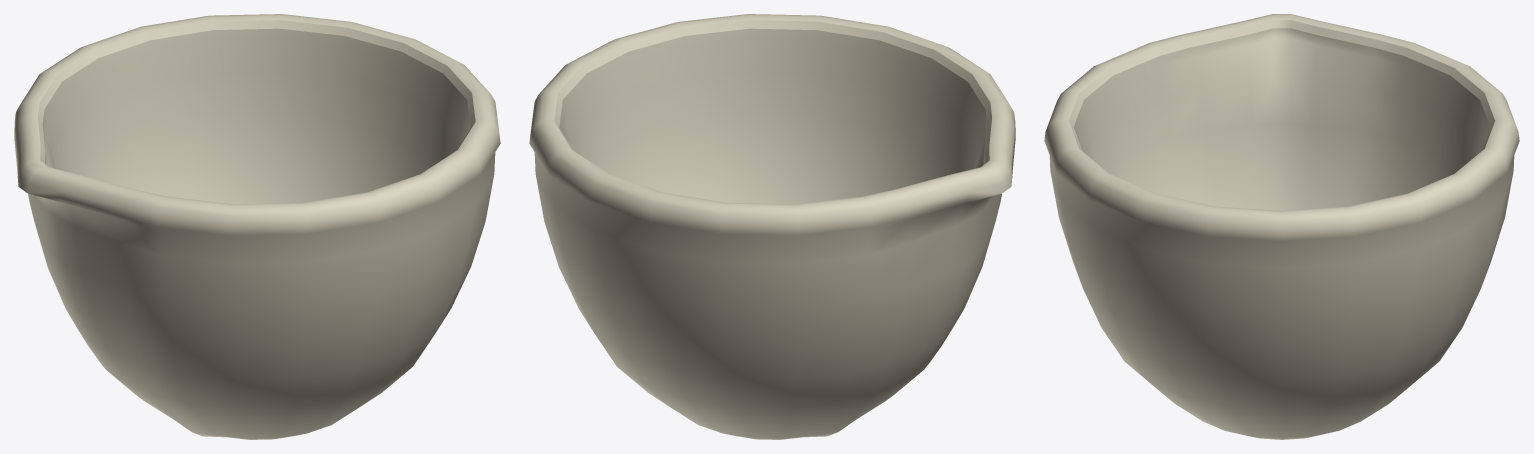
Rendered from crucrible.glb.
The picture shows the model from 3 angles, left to right: view 1: azimuth 30°, elevation 25°; view 2: azimuth 150°, elevation 25°; view 3: azimuth 270°, elevation 25°; orthographic projection. The views are drawn at different scales.
Visible parts, largest first — view 1: pSphere1; view 2: pSphere1; view 3: pSphere1.
Boxes of the visible parts, x1,y1,x2,y2 form: pSphere1: [14, 14, 500, 439]; pSphere1: [529, 14, 1015, 439]; pSphere1: [1044, 14, 1519, 439].
Size of the model in its own units: 5.7 by 3.63 by 5.4.
